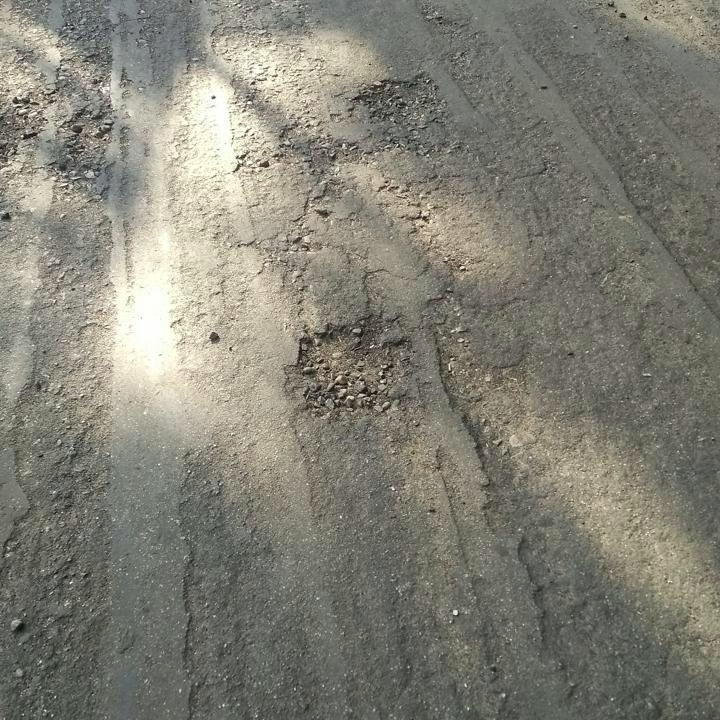pothole: (283, 312, 417, 420), (346, 72, 447, 132)
